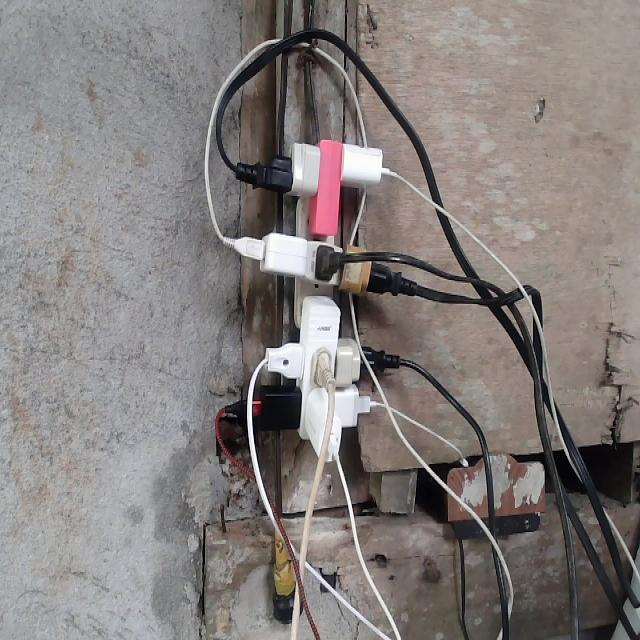-: (234, 132, 395, 467)
